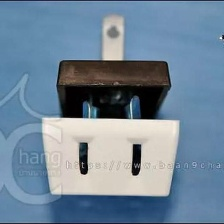three_eye_plug: (34, 88, 183, 202)
